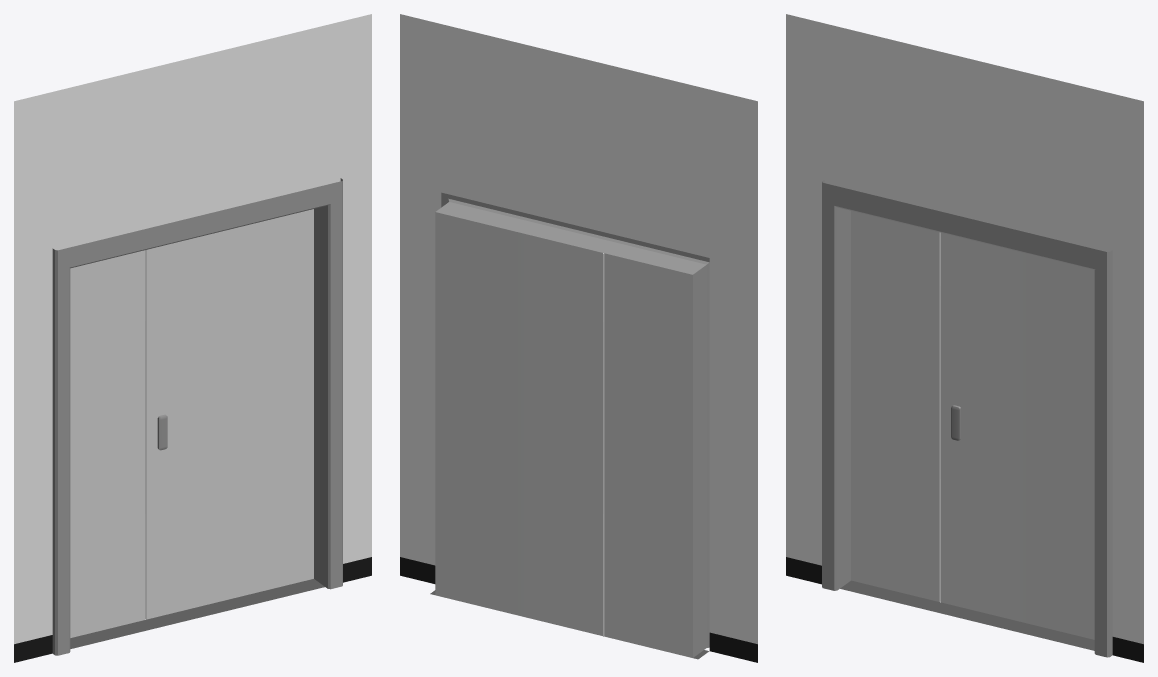
File: door_closeForever_whit.fbx
3 renders of one model, left to right at view 1: azimuth 30°, elevation 25°; view 2: azimuth 150°, elevation 25°; view 3: azimuth 330°, elevation 25°, orthographic.
Visible parts, largest first — view 1: door_closeForever_whit; view 2: door_closeForever_whit; view 3: door_closeForever_whit.
Part boxes in pixels (<box>): door_closeForever_whit: <box>14,14,371,662</box>; door_closeForever_whit: <box>400,14,757,662</box>; door_closeForever_whit: <box>786,14,1143,662</box>.
Size of what is drawn, in the model's own units: 200 by 300 by 15.22.
